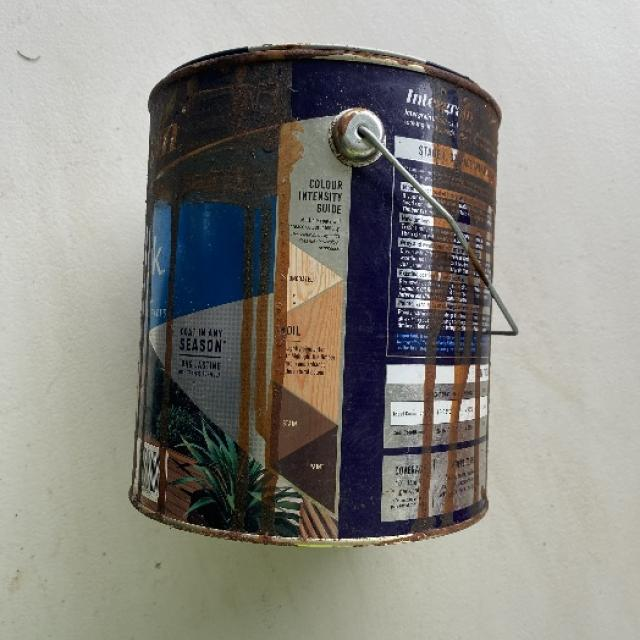metal: (127, 41, 512, 546)
